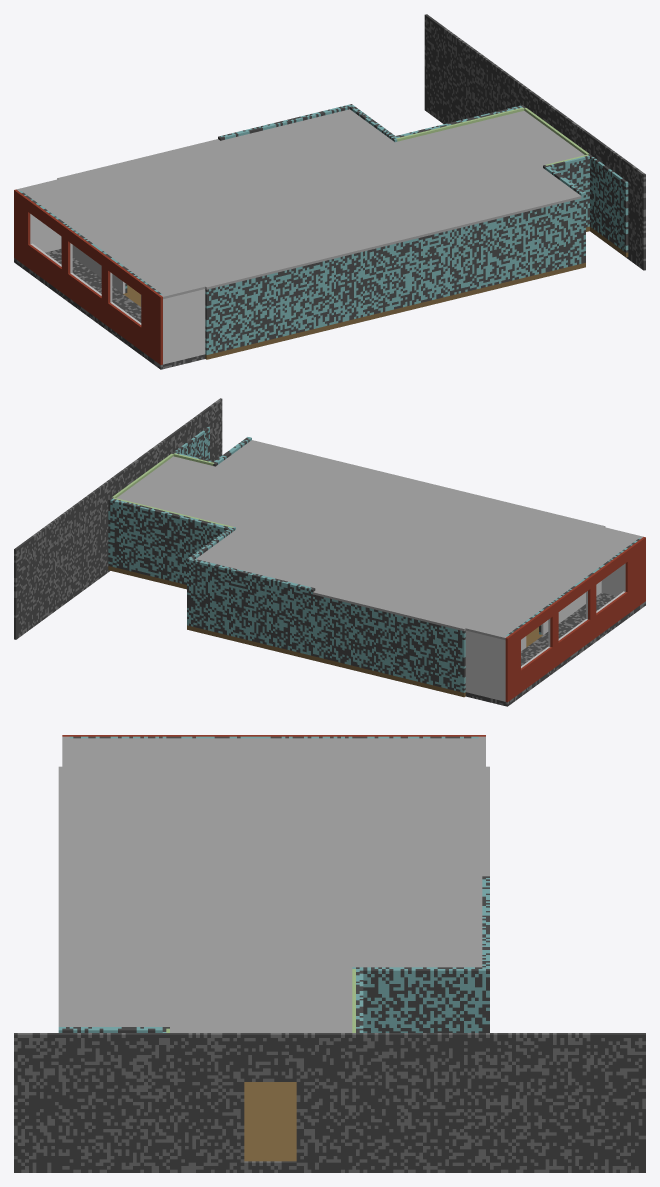
The model's file is flat01b 1.obj.
3 renders of one model, top to bottom at view 1: azimuth 30°, elevation 25°; view 2: azimuth 150°, elevation 25°; view 3: azimuth 270°, elevation 25°, orthographic. The views are drawn at different scales.
Bounding box in the file's own units: 21 × 4.1 × 17.
